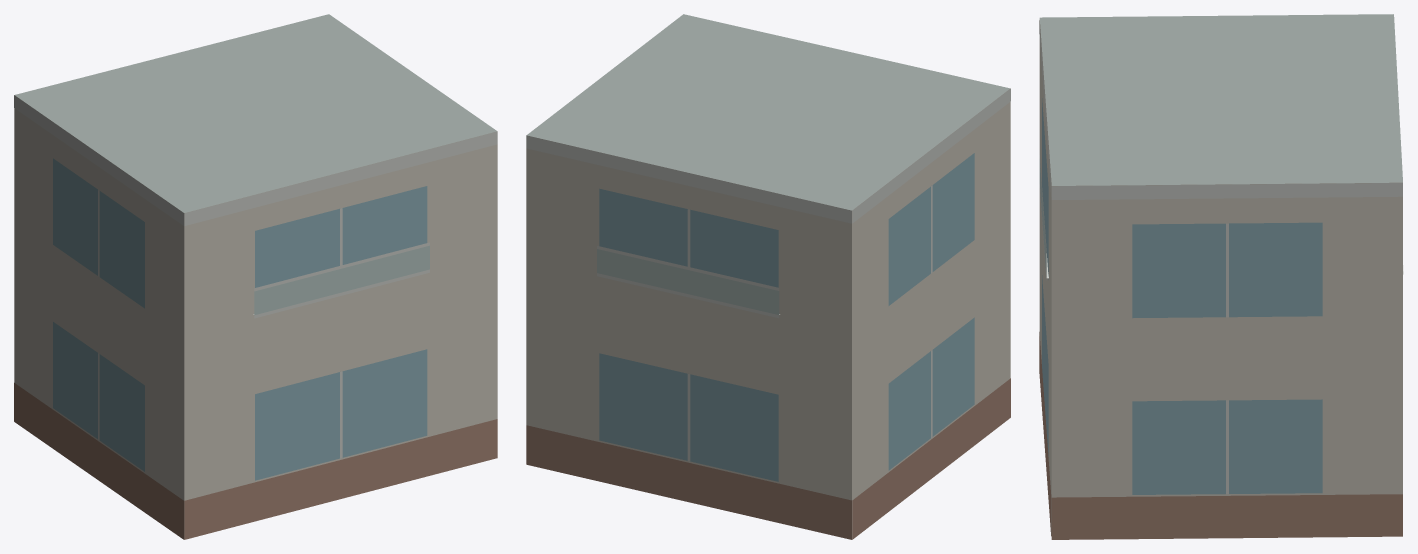
Rendered from survey-upis-33006440.glb.
The picture shows the model from 3 angles, left to right: view 1: azimuth 30°, elevation 25°; view 2: azimuth 150°, elevation 25°; view 3: azimuth 270°, elevation 25°; orthographic projection. The views are drawn at different scales.
Parts seen in each view (by area): view 1: survey-upis-33006440.tmp; view 2: survey-upis-33006440.tmp; view 3: survey-upis-33006440.tmp.
Boxes of the visible parts, <box> form: survey-upis-33006440.tmp: <box>14,14,497,539</box>; survey-upis-33006440.tmp: <box>526,14,1010,539</box>; survey-upis-33006440.tmp: <box>1039,14,1403,539</box>.
Bounding box in the file's own units: 6.37 × 6.1 × 5.69.
